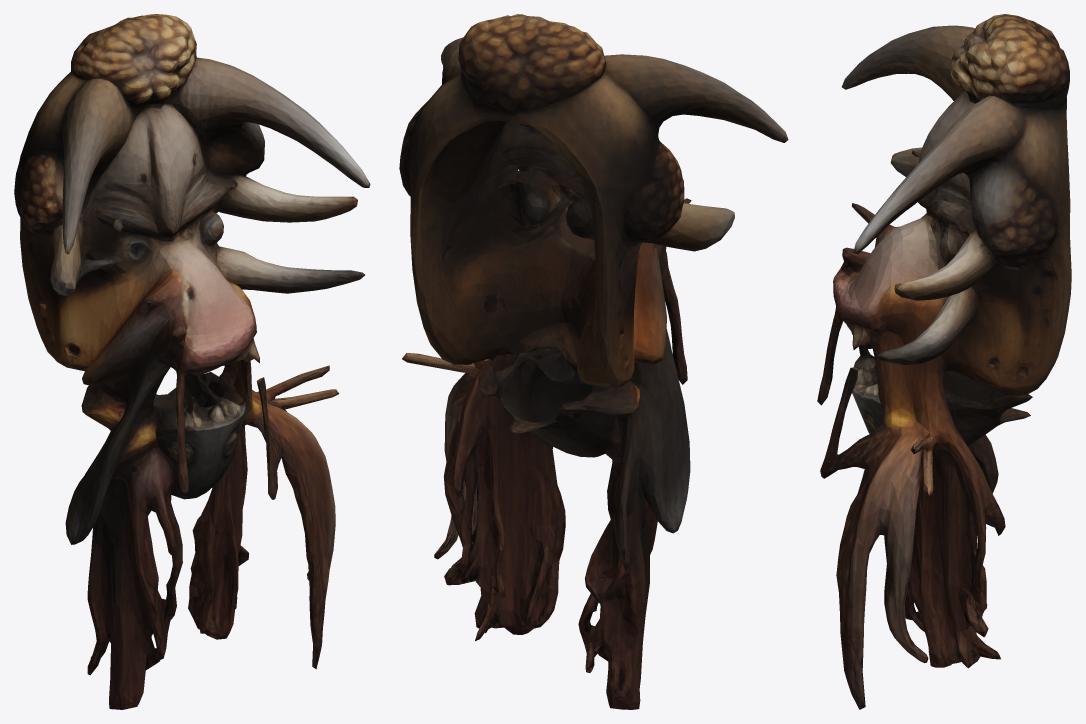
File: dragon.glb
3 renders of one model, left to right at view 1: azimuth 30°, elevation 25°; view 2: azimuth 150°, elevation 25°; view 3: azimuth 270°, elevation 25°, orthographic. The views are drawn at different scales.
Visible parts, largest first — view 1: world; view 2: world; view 3: world.
Boxes of the visible parts, box(x1,y1,x2,y2) form: world: box(14, 14, 370, 709); world: box(399, 14, 788, 709); world: box(817, 14, 1071, 709).
Size of the model in its own units: 0.5157 by 0.9989 by 0.349.
1 material, 1 textured.
